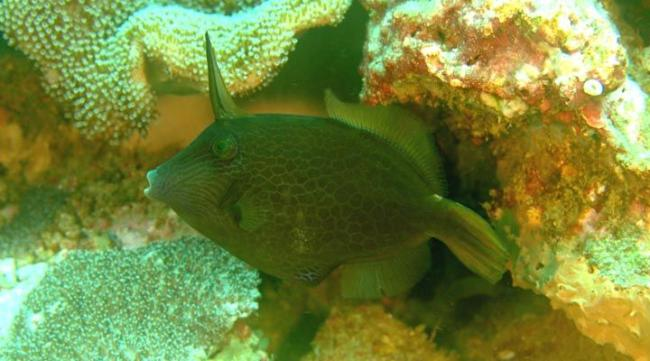fish: (146, 32, 509, 284)
